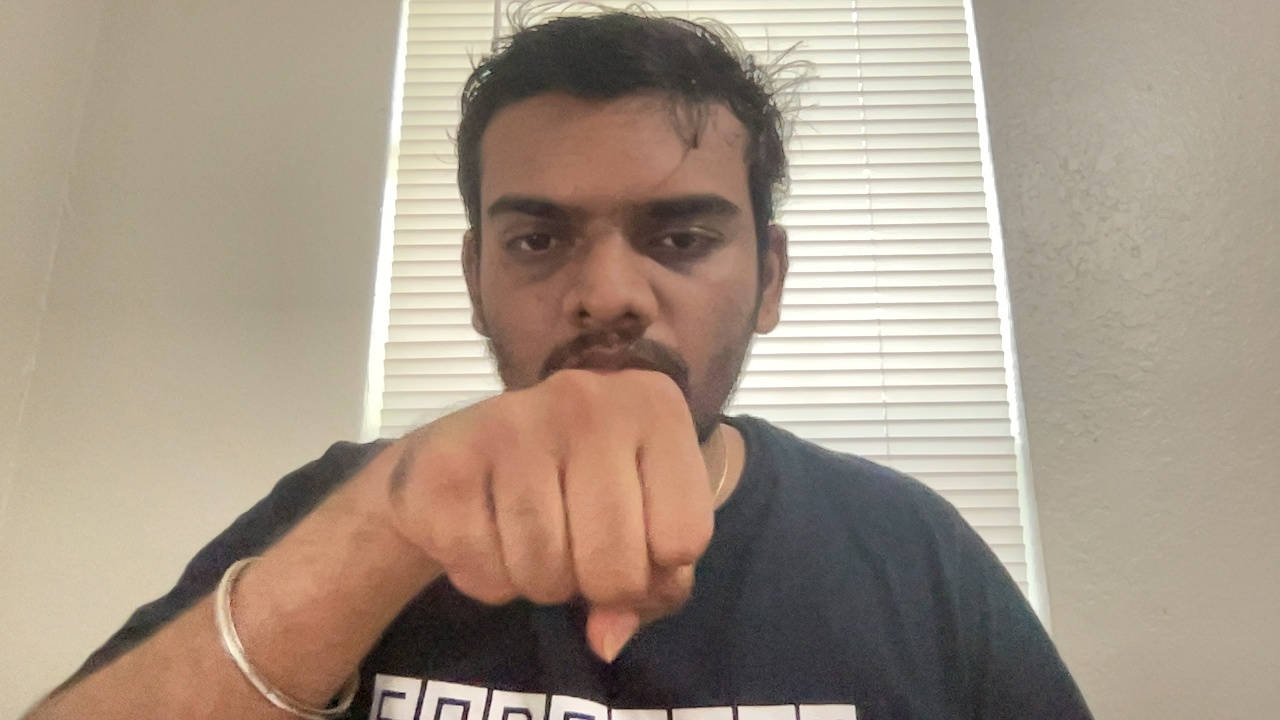yes: (363, 346, 725, 651)
